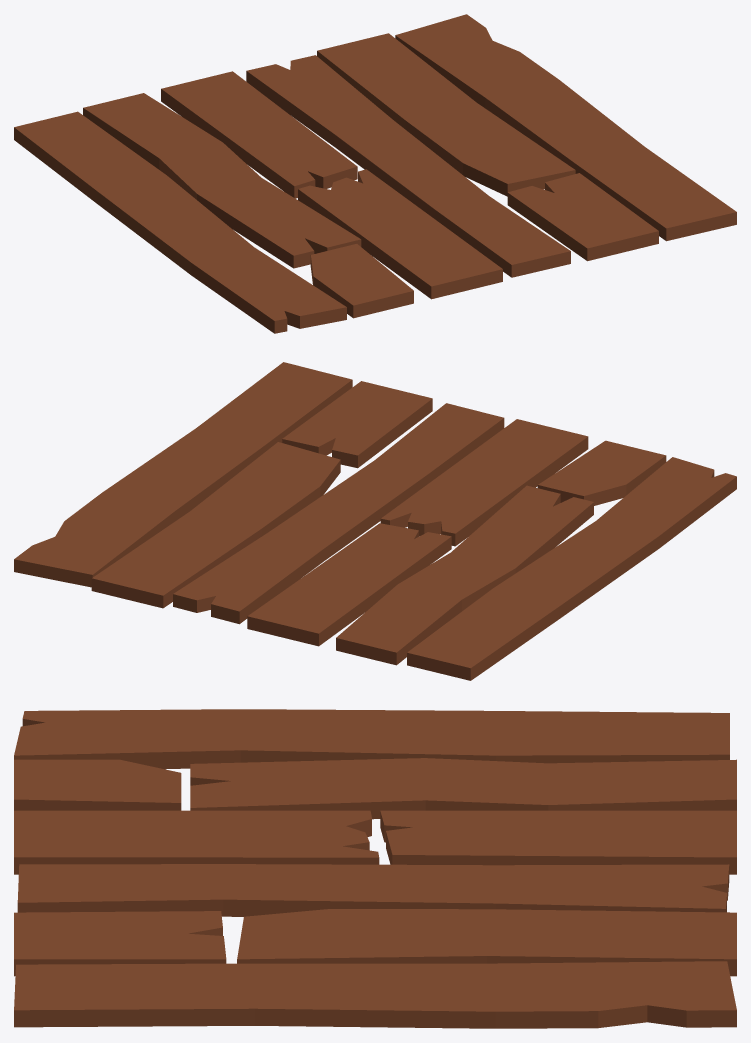
File: LP_PostApoc_WoodenBoards.fbx
3 renders of one model, top to bottom at view 1: azimuth 30°, elevation 25°; view 2: azimuth 150°, elevation 25°; view 3: azimuth 270°, elevation 25°, orthographic. The views are drawn at different scales.
Parts seen in each view (by area): view 1: WoodenBoards; view 2: WoodenBoards; view 3: WoodenBoards.
Boxes of the visible parts, x1=… form: WoodenBoards: x1=14, y1=14, x2=736, y2=333; WoodenBoards: x1=14, y1=362, x2=736, y2=680; WoodenBoards: x1=14, y1=709, x2=736, y2=1028.
Bounding box in the file's own units: 198 × 5.21 × 200.
